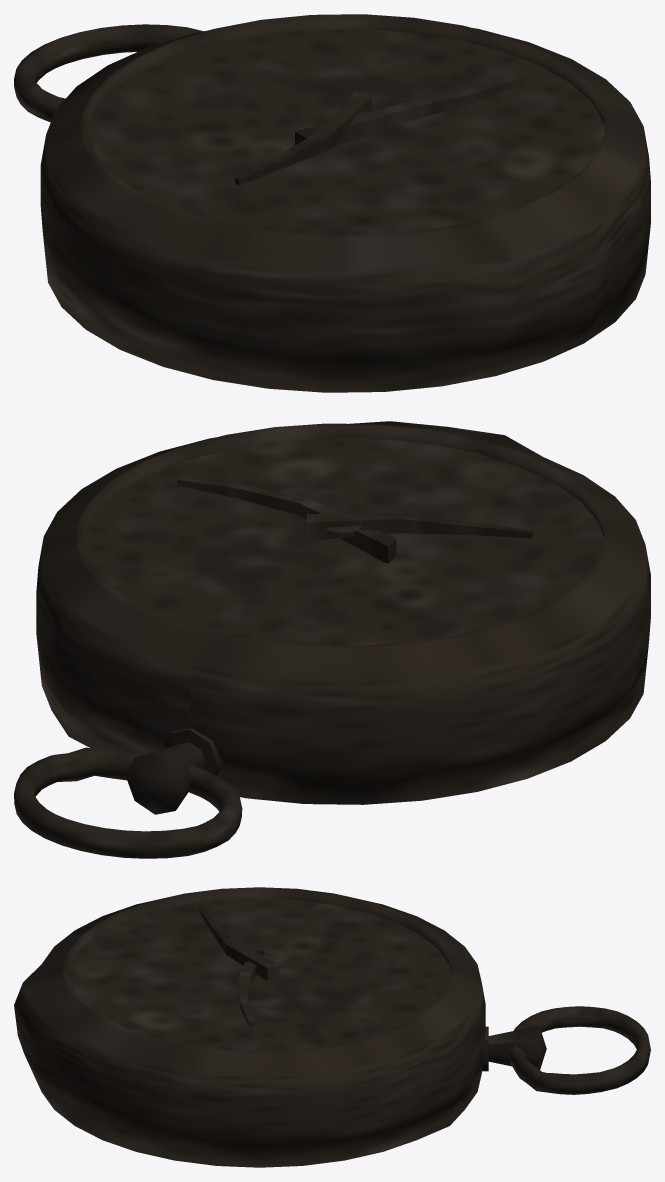
File: PocketWatchCharred.fbx
The picture shows the model from 3 angles, top to bottom: view 1: azimuth 30°, elevation 25°; view 2: azimuth 150°, elevation 25°; view 3: azimuth 270°, elevation 25°; orthographic projection. The views are drawn at different scales.
Parts seen in each view (by area): view 1: Cube.001; view 2: Cube.001; view 3: Cube.001.
Boxes of the visible parts, bbox=[...] form: Cube.001: bbox=[14, 14, 650, 392]; Cube.001: bbox=[14, 421, 650, 858]; Cube.001: bbox=[14, 887, 650, 1167].
Bounding box in the file's own units: 5.49 × 1.69 × 7.73.
